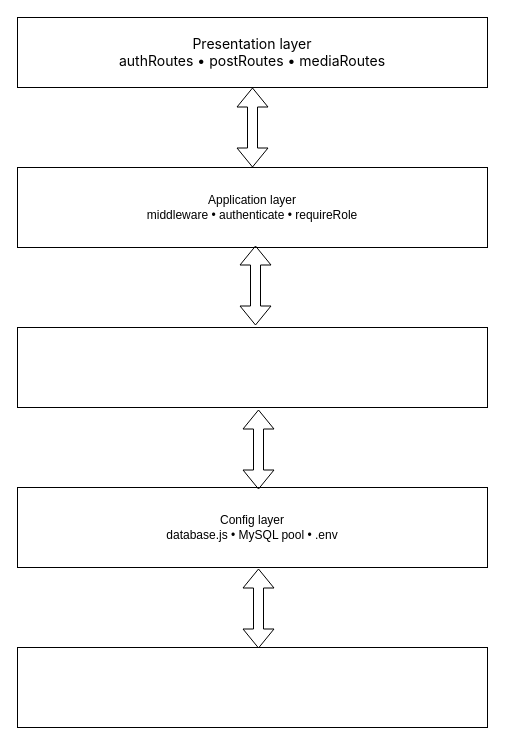
Image size: 505x745. Some labels were removed from this diagram. Each missing label, with the centre of its shape:
Domain layer PostService • AuthService • MediaService: point (252, 367)
Persistence layer users • posts • media • tags • plugin_settings: point (252, 687)
